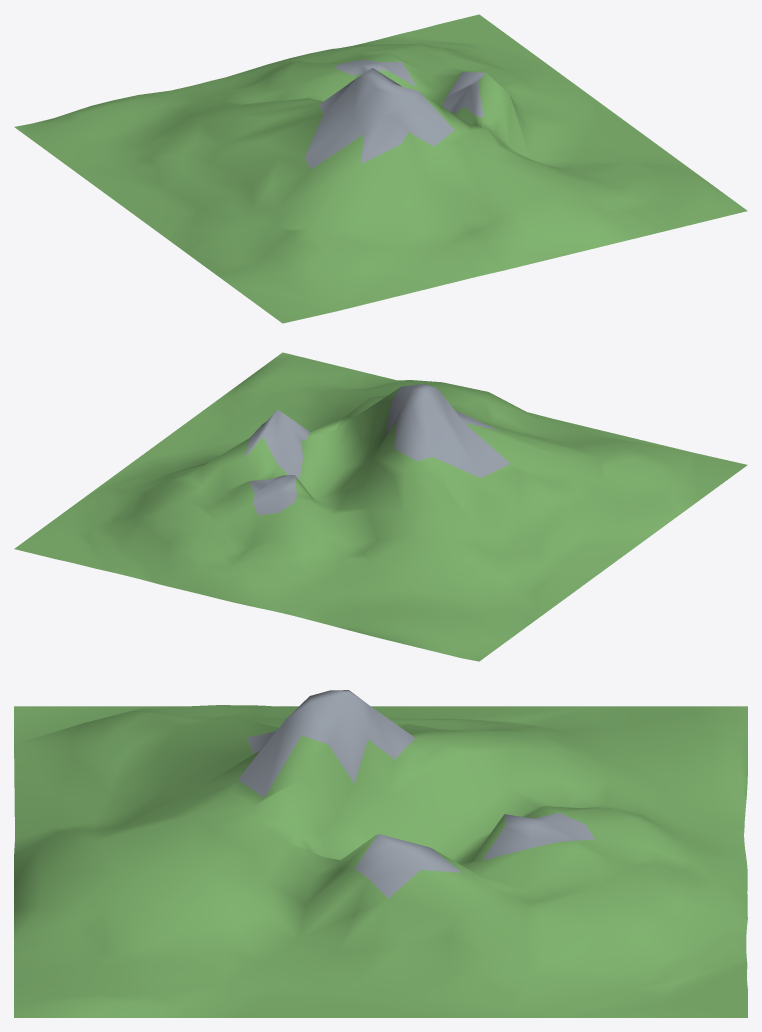
File: SM_Mountains_12.obj
The picture shows the model from 3 angles, top to bottom: view 1: azimuth 30°, elevation 25°; view 2: azimuth 150°, elevation 25°; view 3: azimuth 270°, elevation 25°; orthographic projection. The views are drawn at different scales.
Visible parts, largest first — view 1: SM_Mountains_12; view 2: SM_Mountains_12; view 3: SM_Mountains_12.
Part boxes in pixels (bbox=[...]): SM_Mountains_12: bbox=[14, 14, 747, 323]; SM_Mountains_12: bbox=[14, 352, 747, 661]; SM_Mountains_12: bbox=[14, 690, 747, 1017].
Bounding box in the file's own units: 15.39 × 3.63 × 15.39.
1 material, 1 textured.
